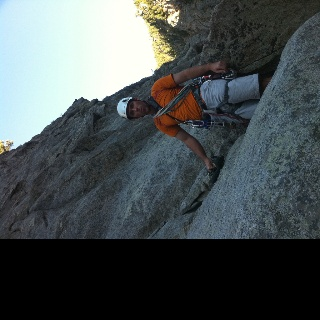without_mask: (128, 100, 149, 118)
